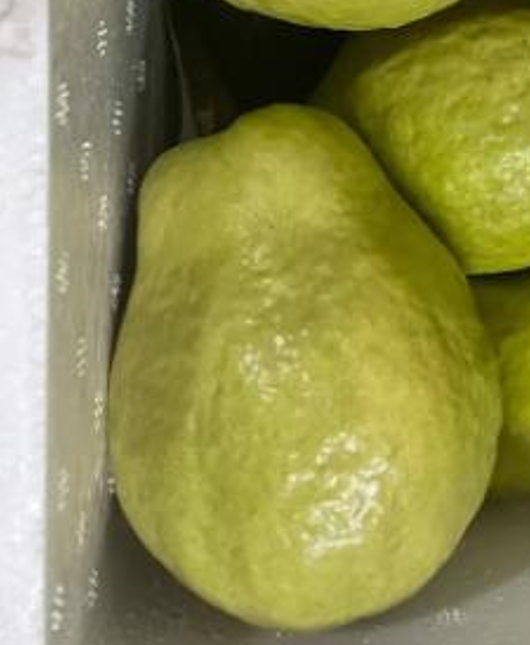guava_A: (109, 102, 504, 630)
